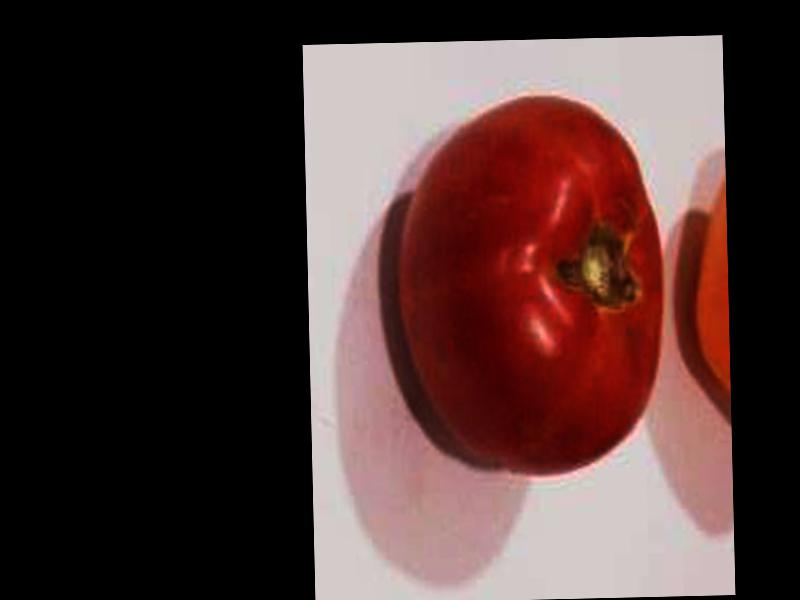Tomato: (398, 93, 665, 474)
